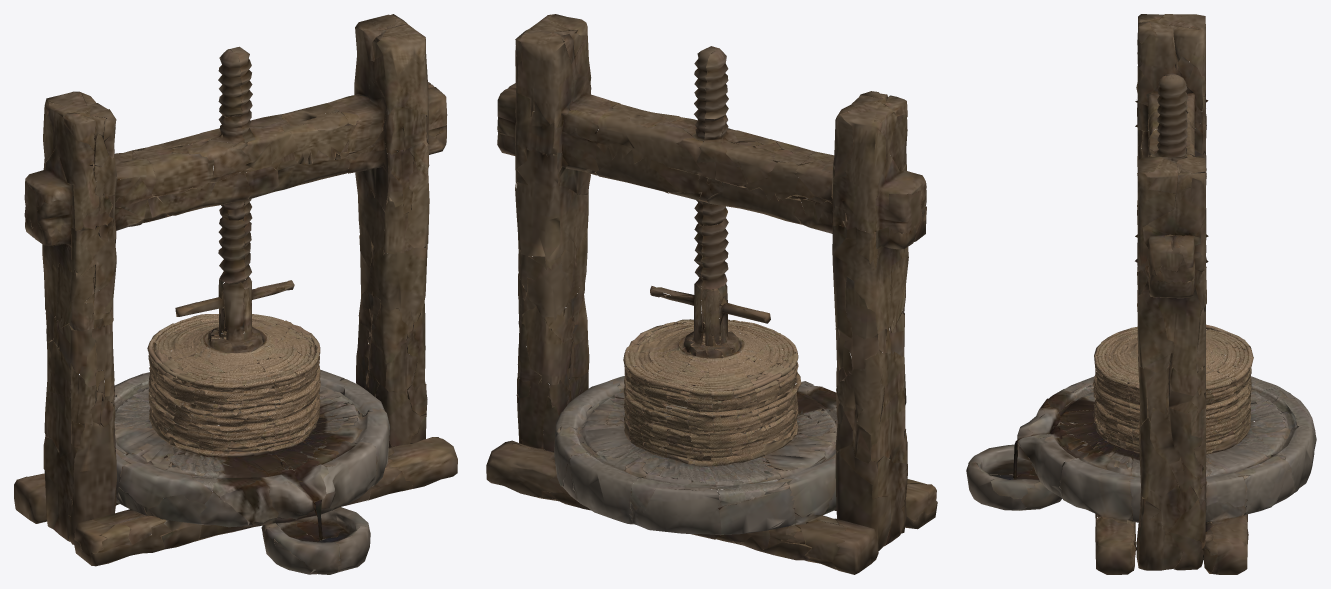
File: olive-press.glb
3 views of the same model, side by side, from view 1: azimuth 30°, elevation 25°; view 2: azimuth 150°, elevation 25°; view 3: azimuth 270°, elevation 25° (orthographic). The views are drawn at different scales.
Parts seen in each view (by area): view 1: Mesh_0; view 2: Mesh_0; view 3: Mesh_0.
Boxes of the visible parts, left/top/right/bottom form: Mesh_0: left=14, top=14, right=457, bottom=574; Mesh_0: left=486, top=14, right=937, bottom=574; Mesh_0: left=966, top=14, right=1316, bottom=574.
Size of the model in its own units: 2.39 by 2.5 by 1.91.
1 material, 1 textured.
